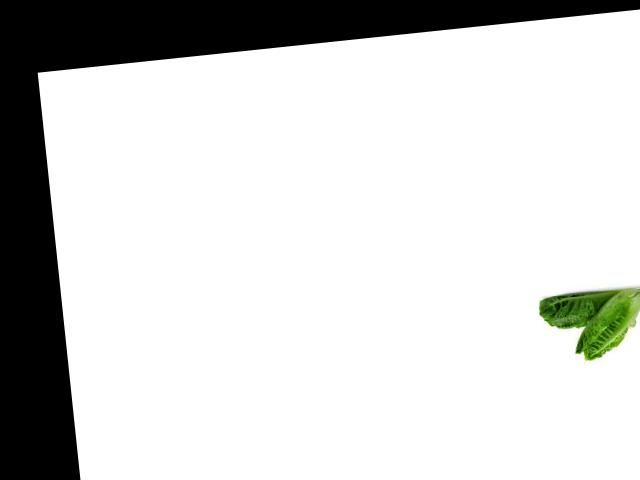lettuce: (530, 282, 626, 334)
